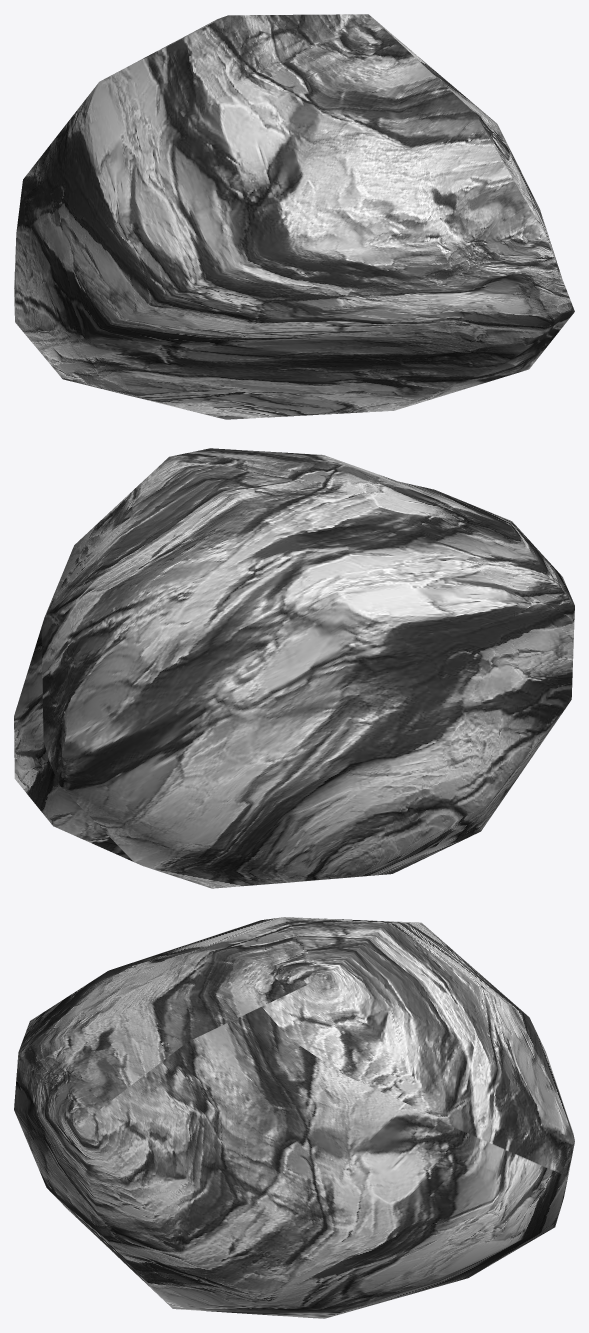
Rendered from Rock 1 (Textured).fbx.
The picture shows the model from 3 angles, top to bottom: view 1: azimuth 30°, elevation 25°; view 2: azimuth 150°, elevation 25°; view 3: azimuth 270°, elevation 25°; orthographic projection. The views are drawn at different scales.
Visible parts, largest first — view 1: polySurface6; view 2: polySurface6; view 3: polySurface6.
Boxes of the visible parts, x1,y1,x2,y2 form: polySurface6: (14, 14, 574, 419); polySurface6: (14, 448, 574, 888); polySurface6: (14, 917, 574, 1318).
Bounding box in the file's own units: 1.41 × 1.03 × 1.58.
Materials: 1 (1 with a texture image).
